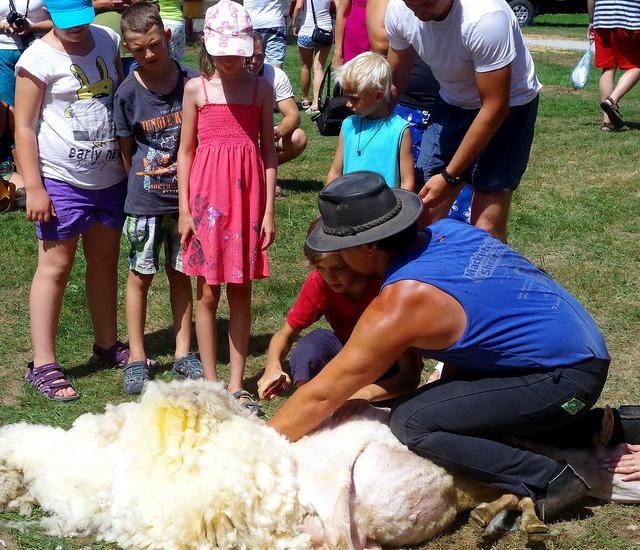person: (259, 166, 626, 514), (13, 1, 135, 394), (377, 1, 545, 226), (189, 2, 278, 409), (116, 4, 207, 393), (256, 218, 427, 399), (304, 49, 420, 194)
